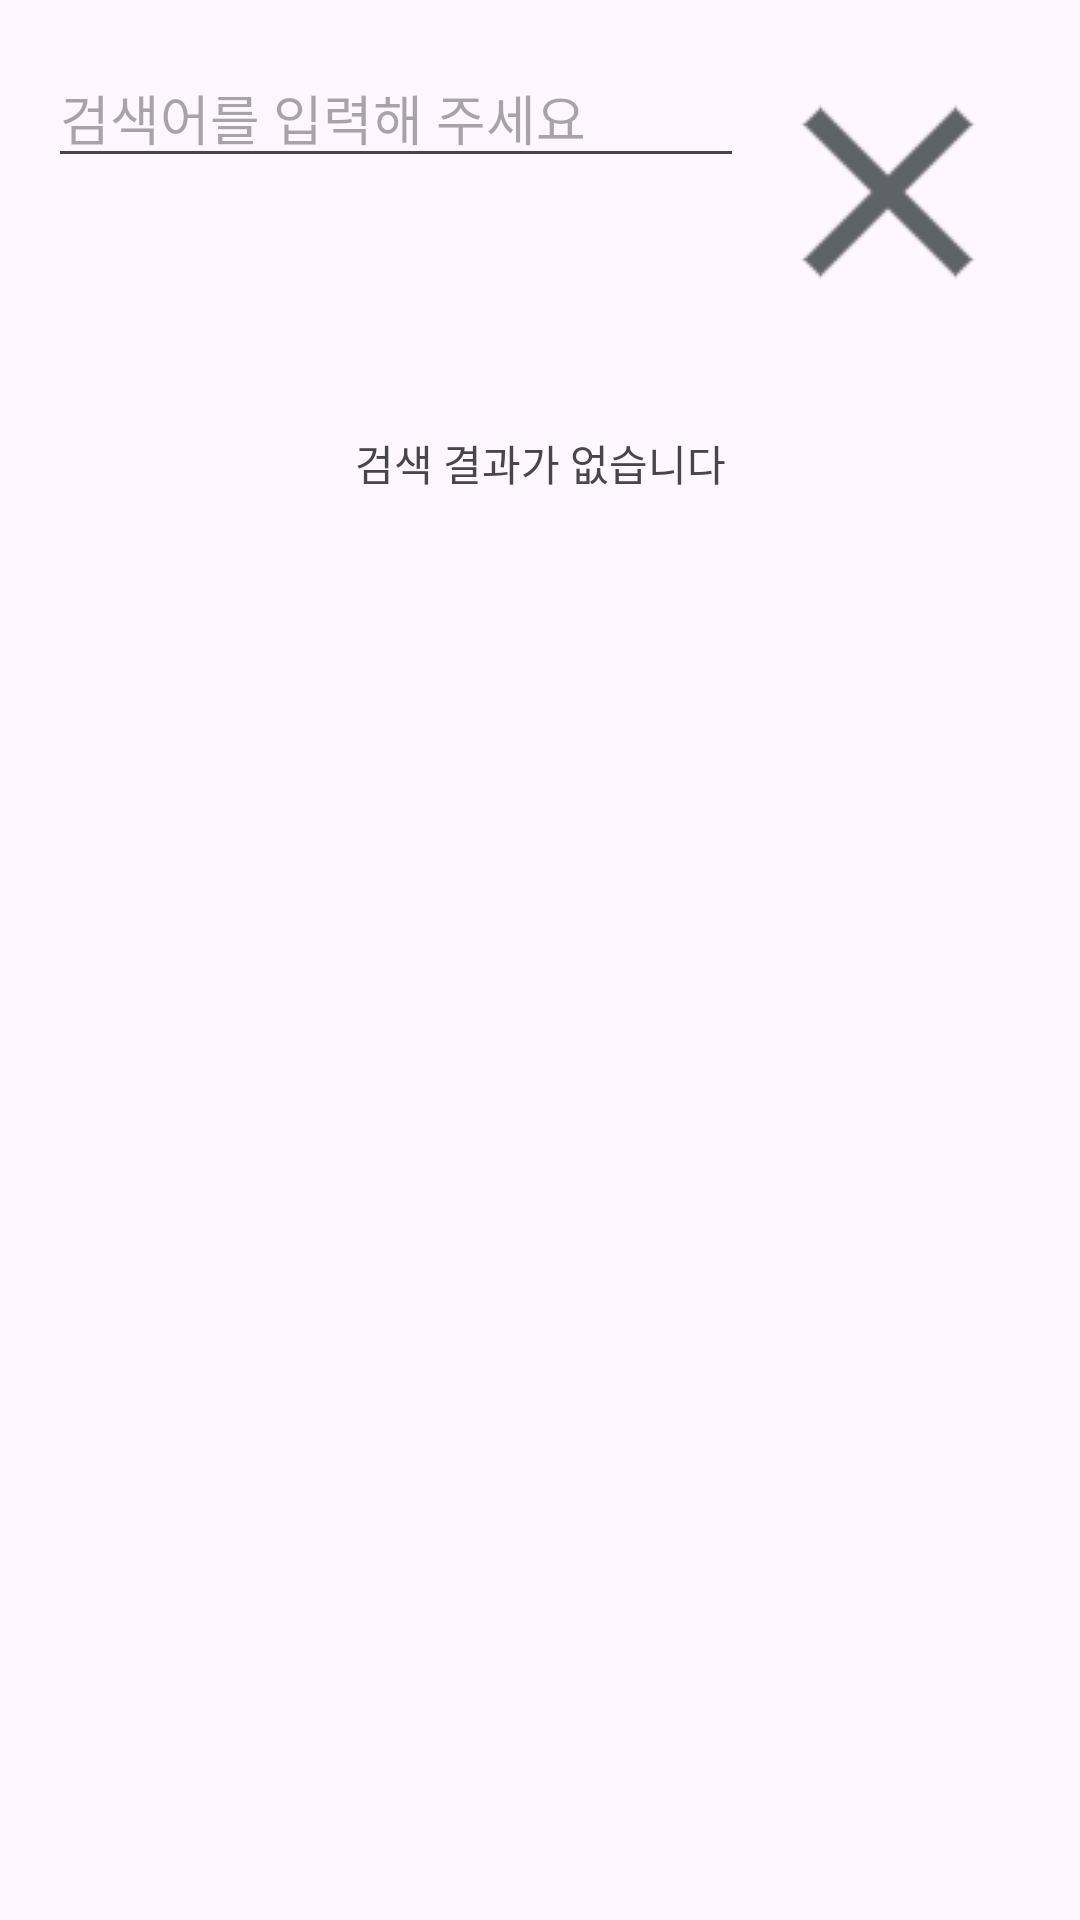

Icon bounding boxes for this 1080 x 1920 phone screenshot, format (x1, y1, x2, y2):
cancel: (802, 106, 974, 278)
